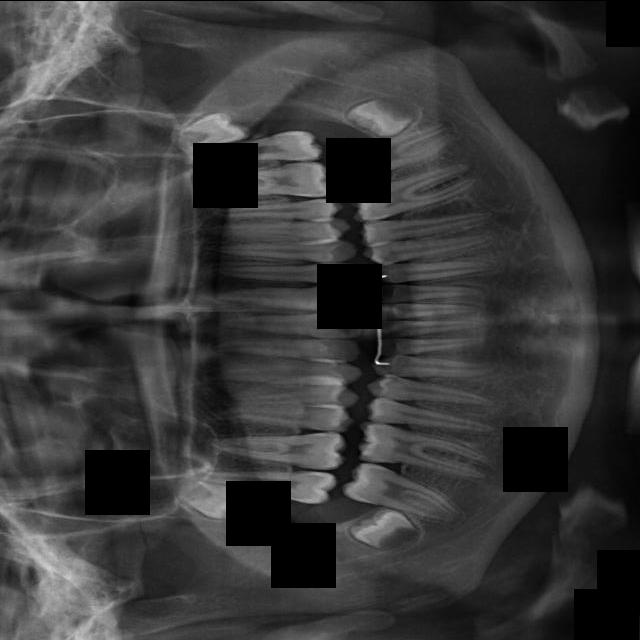3M ESPE Implant: (165, 473, 255, 527)
AGS Medikal Implant: (333, 117, 463, 186)
AMerOss Implant: (342, 158, 482, 226)
Amalgam filling: (181, 469, 338, 505)
Anthogyr Implant: (355, 199, 497, 248)
Bicon Implant: (362, 224, 499, 268)
BioHorizons Implant: (368, 257, 499, 283)
BioLife Implant: (370, 283, 487, 303)
Biomet 3i Implant: (371, 301, 479, 319)
Blue Sky Bio Implant: (369, 315, 492, 337)
Camlog Implant: (369, 331, 492, 356)
Caries: (211, 262, 361, 284)
Composite filling: (369, 355, 504, 379)
Cowellmedi Implant: (364, 373, 501, 415)
Crown: (364, 398, 505, 439)
DENTSPLY Implant: (210, 432, 347, 469)
Dentatus Implant: (353, 420, 495, 480)
Dentis Implant: (339, 456, 468, 526)
Dentium Implant: (346, 502, 423, 556)
Euroteknika Implant: (204, 408, 352, 431)
Filling: (208, 384, 360, 408)
Frontier Implant: (198, 360, 365, 384)
Hiossen Implant: (200, 238, 361, 266)
Implant: (216, 311, 365, 337)
Implant Direct: (210, 335, 364, 363)
Keystone Dental Implant: (211, 283, 366, 314)
MIS Implant: (203, 215, 353, 246)
Mandible: (205, 197, 344, 222)
Maxilla: (195, 160, 333, 198)
Megagen Implant: (194, 128, 326, 166)
Neodent Implant: (166, 105, 252, 154)
Neoss Implant: (342, 85, 424, 146)
